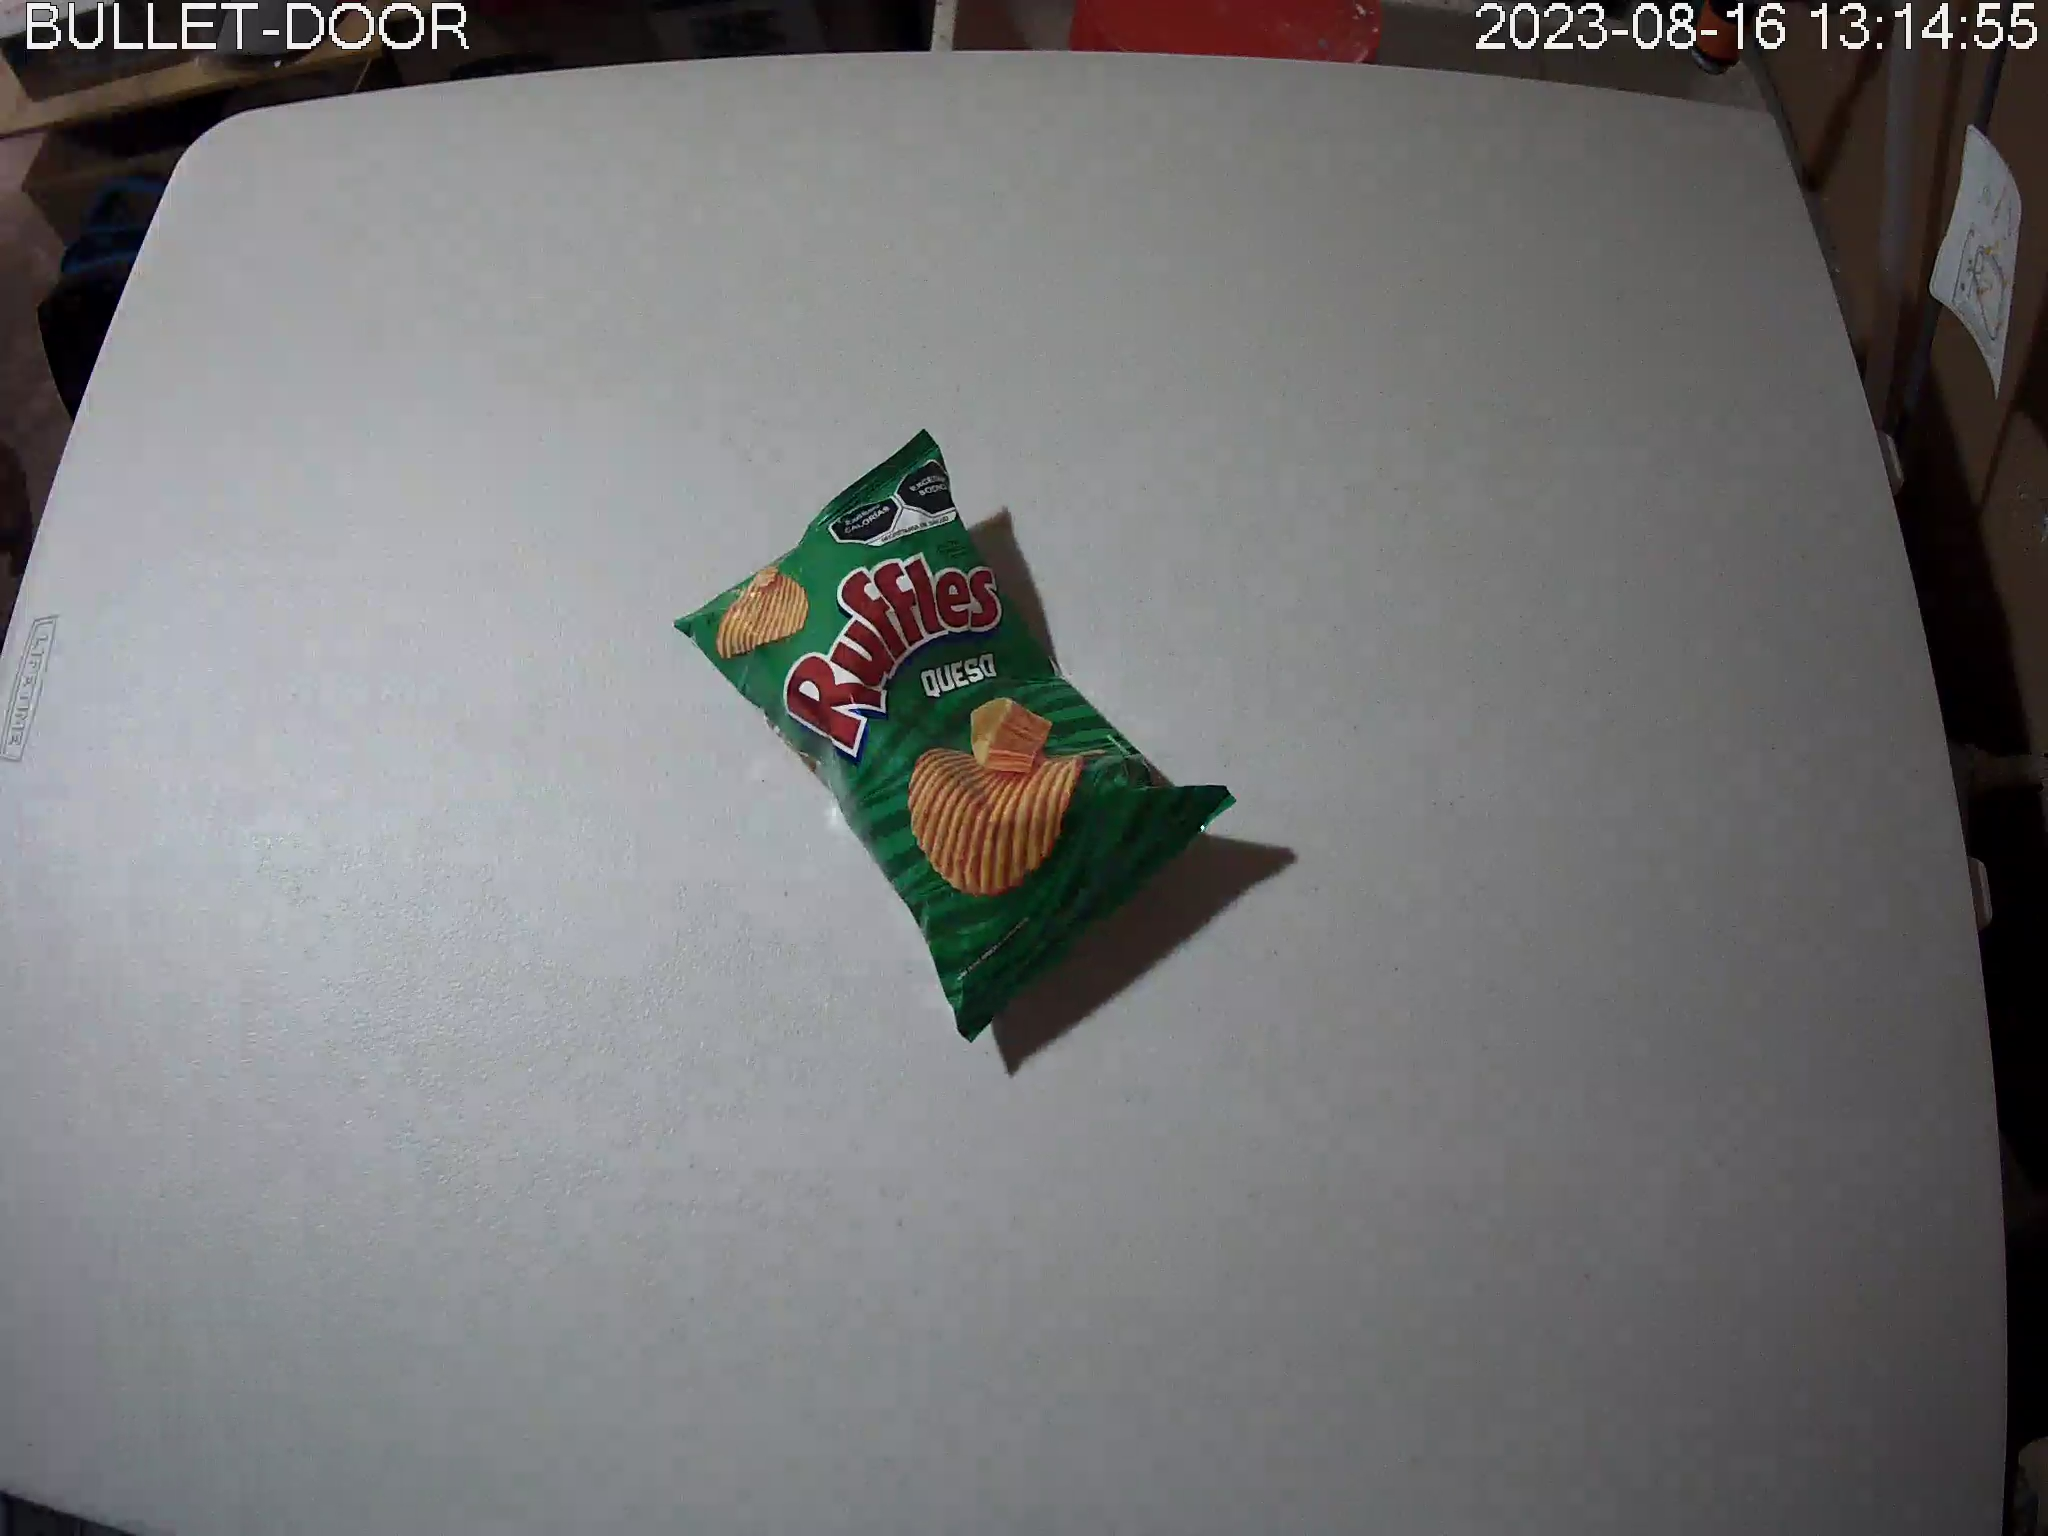RufflesQ_48_F: (671, 429, 1242, 1049)
